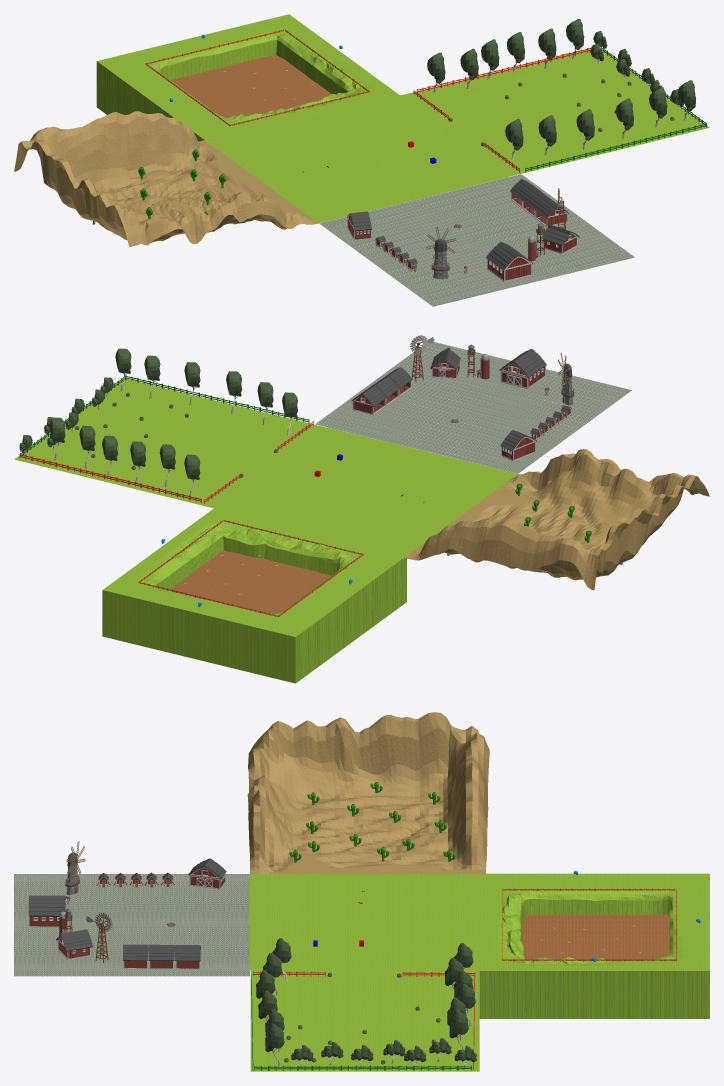
3 views of the same model, one above another, from view 1: azimuth 30°, elevation 25°; view 2: azimuth 150°, elevation 25°; view 3: azimuth 270°, elevation 25° (orthographic). The views are drawn at different scales.
Visible parts, largest first — view 1: dessert, ground, forest, village, lakeGround, Buildings, lake, Fence.001, Fence.000; view 2: lakeGround, ground, dessert, forest, village, Buildings, lake, Fence.000, Fence.001; view 3: dessert, lakeGround, ground, village, forest, Buildings, lake, Fence.002.
Boxes of the visible parts, <box> form: dessert: <box>14,111,318,246</box>; ground: <box>205,93,508,223</box>; forest: <box>398,47,709,176</box>; village: <box>319,174,634,306</box>; lakeGround: <box>96,14,399,141</box>; Buildings: <box>347,179,579,282</box>; lake: <box>170,55,331,117</box>; Fence.001: <box>525,123,706,172</box>; Fence.000: <box>416,48,591,92</box>; lakeGround: <box>102,508,406,683</box>; ground: <box>213,427,517,557</box>; dessert: <box>404,449,709,590</box>; forest: <box>14,378,326,508</box>; village: <box>315,342,631,473</box>; Buildings: <box>351,335,574,460</box>; lake: <box>170,550,330,613</box>; Fence.000: <box>19,453,201,502</box>; Fence.001: <box>125,375,309,423</box>; dessert: <box>247,712,489,873</box>; lakeGround: <box>479,873,709,1018</box>; ground: <box>250,873,485,969</box>; village: <box>14,874,249,976</box>; forest: <box>250,970,479,1071</box>; Buildings: <box>28,841,226,969</box>; lake: <box>522,914,669,960</box>; Fence.002: <box>254,1065,471,1070</box>.
Bounding box in the file's own units: 303 × 54 × 302.
278 materials, 19 textured.
